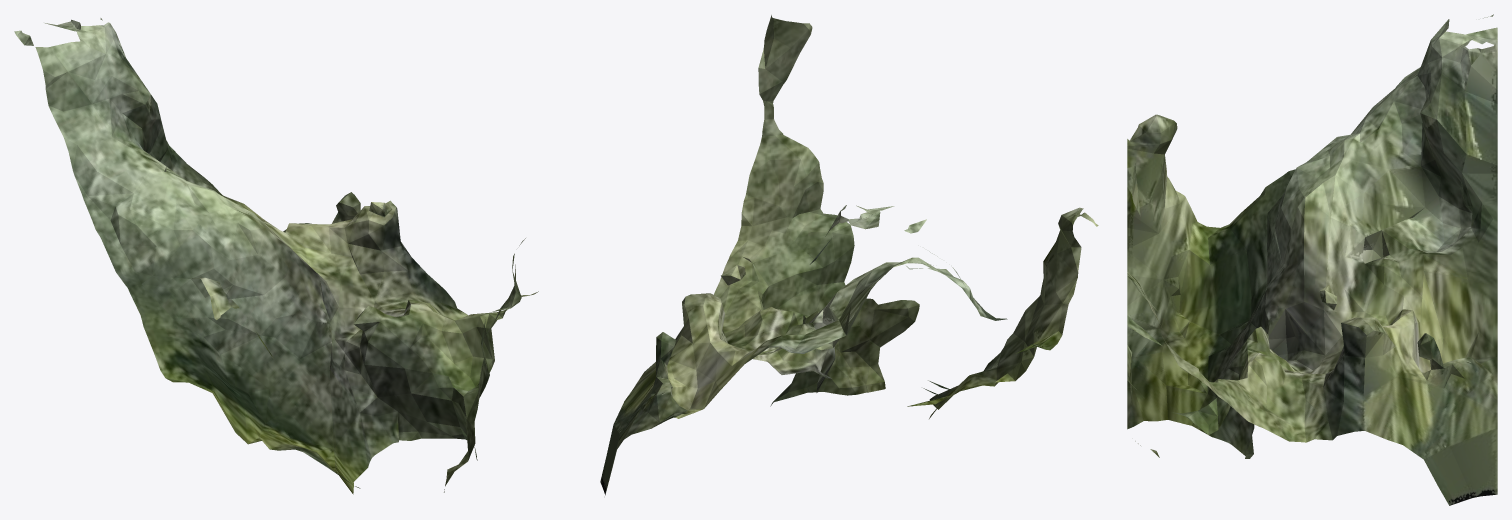
The picture shows the model from 3 angles, left to right: view 1: azimuth 30°, elevation 25°; view 2: azimuth 150°, elevation 25°; view 3: azimuth 270°, elevation 25°; orthographic projection. The views are drawn at different scales.
Size of the model in its own units: 5.9 by 5.9 by 5.9.
Materials: 4 (4 with a texture image).
